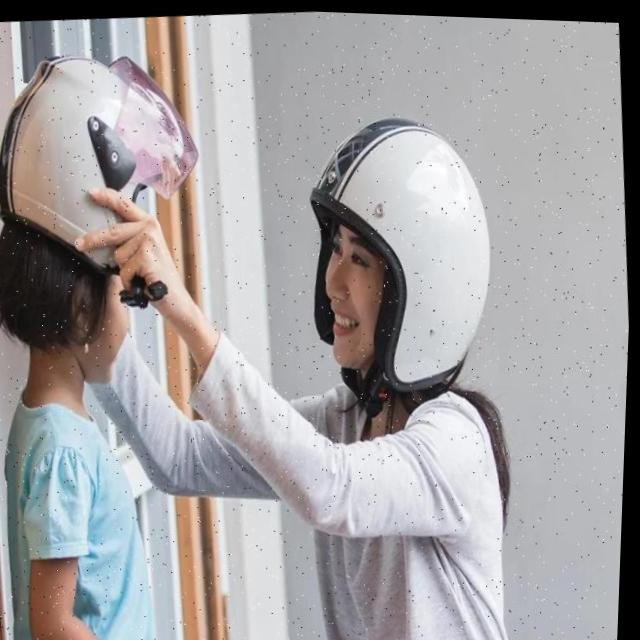helmet: (298, 99, 509, 425)
